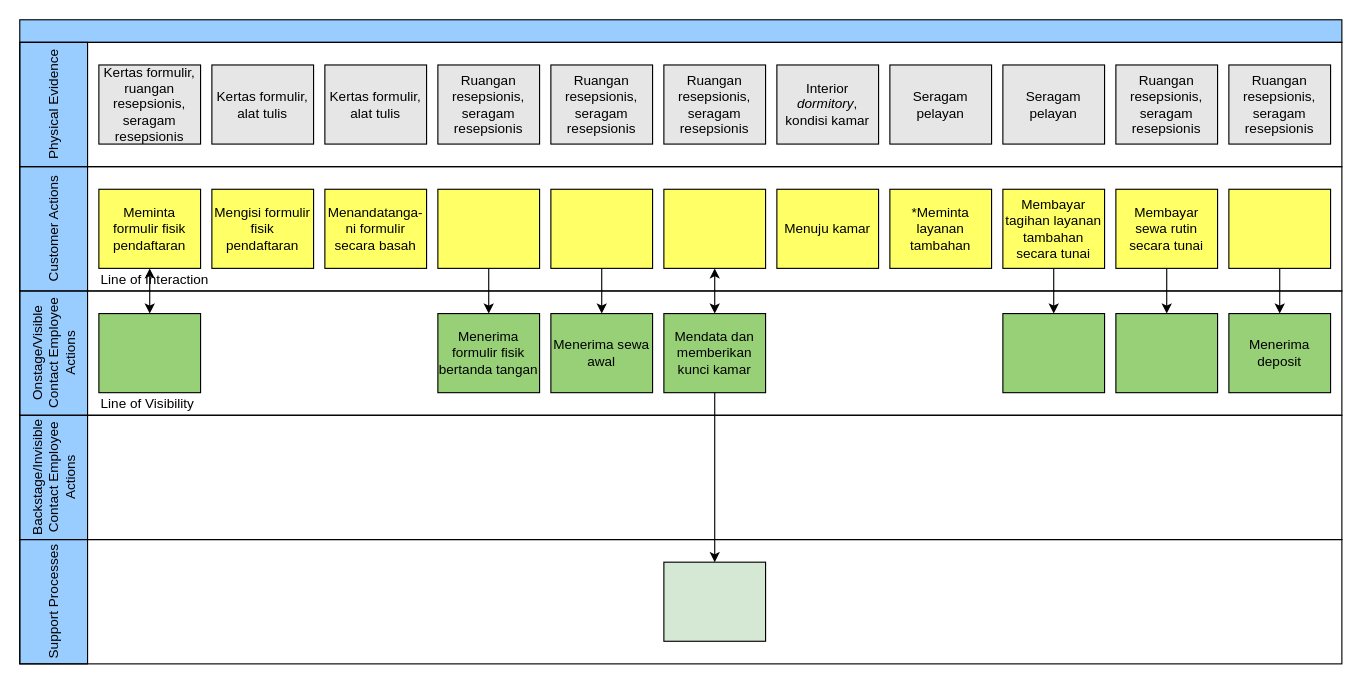
Some shapes in this 1362 by 684 pixel diagram are drawn without their labels. Each missing label, with the box of its shape:
Blueprint PB3 - Kontrak dan Keuangan: (19, 19, 1342, 42)
Line of Internal Interaction: (19, 414, 1342, 540)
Melakukan check in: (663, 188, 766, 268)
Membayar deposit secara tunai: (1228, 188, 1331, 268)
Membayar sewa awal secara tunai: (550, 188, 653, 268)
Memberikan formulir fisik bertanda tangan: (437, 188, 540, 268)
Memberikan formulir fisik pendaftaran: (98, 312, 201, 393)
Menerima sewa rutin: (1115, 312, 1218, 393)
Menerima tagihan layanan tambahan: (1002, 312, 1105, 393)
Menyiapkan kamar: (663, 561, 766, 641)
